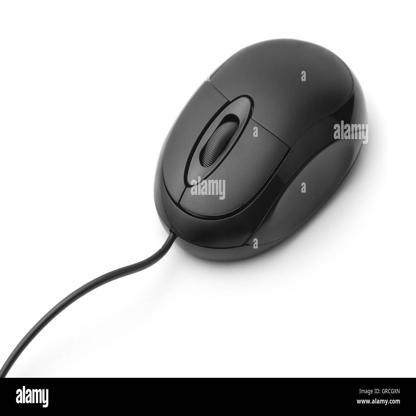not trash: (146, 37, 366, 260)
